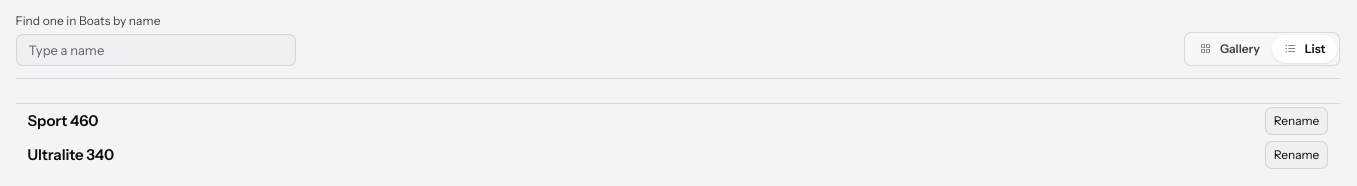
Test: edit — the one fact a catalogue face owns is its name › Escape leaves the name alone
Click the button with aria-label "Rename Sport 460" at point(1297, 121), box [1265,107,1328,135]
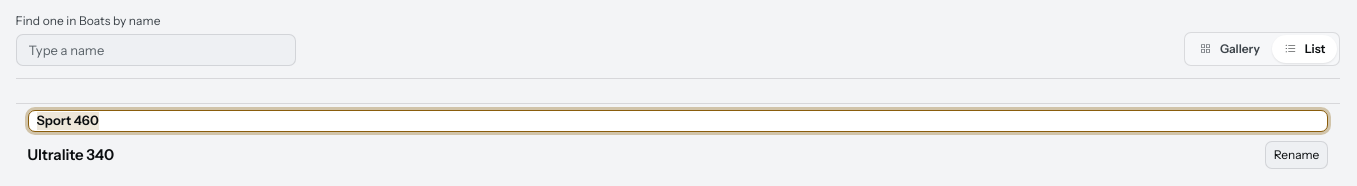
Replace the text in the field named "Rename Sport 460" with "Nonsense" at point(678, 121), box [28,110,1328,132]
Then press Escape
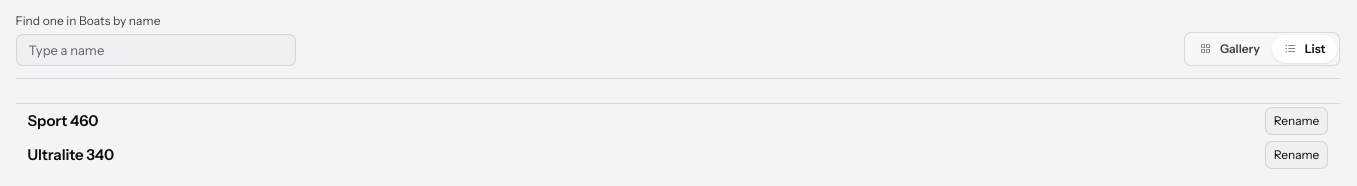
Expected: the text "Sport 460" is shown, [28,111,98,130]
